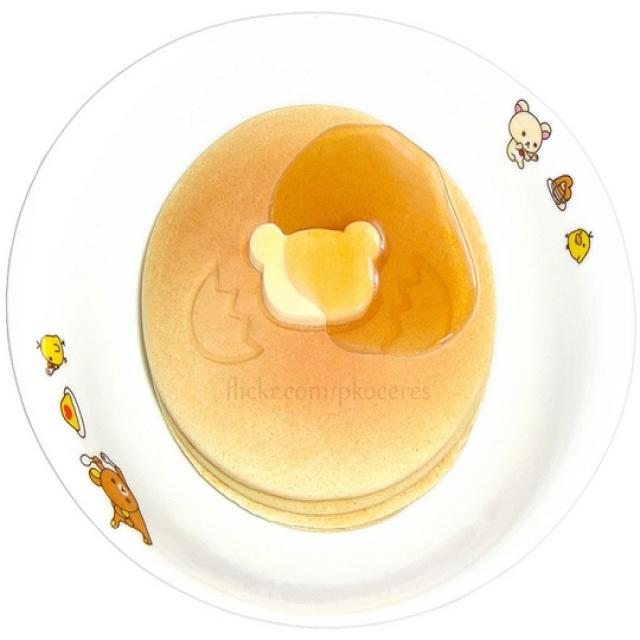蛋糕甜品: (7, 4, 621, 612)
